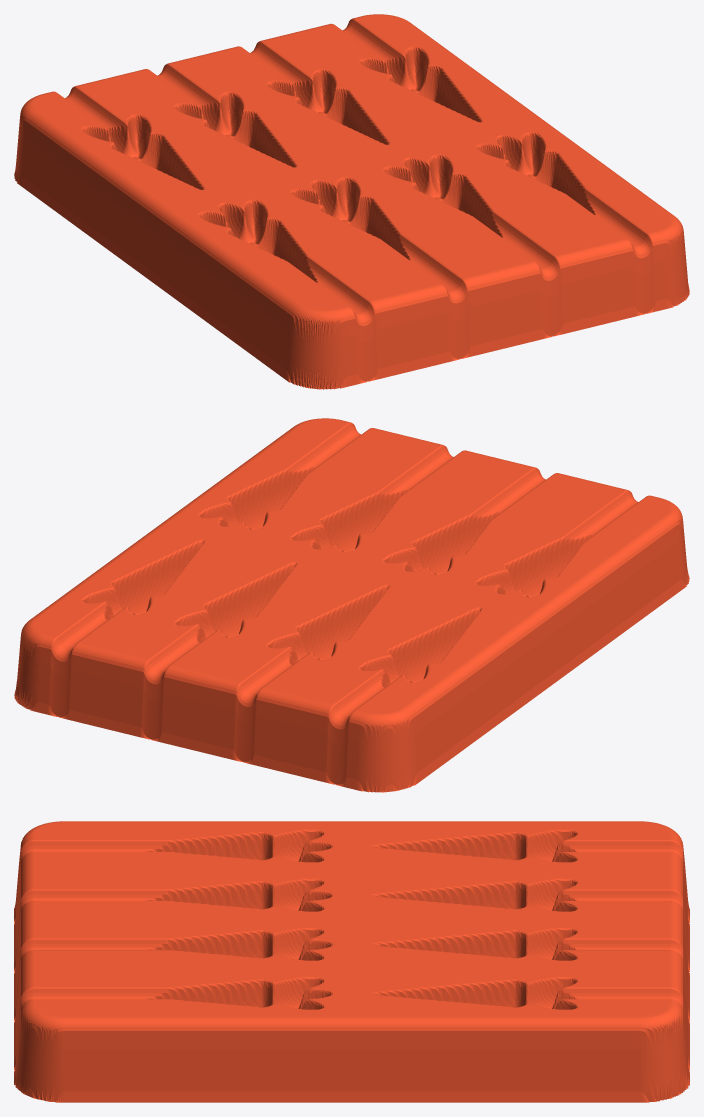
File: mold.glb
The picture shows the model from 3 angles, top to bottom: view 1: azimuth 30°, elevation 25°; view 2: azimuth 150°, elevation 25°; view 3: azimuth 270°, elevation 25°; orthographic projection. The views are drawn at different scales.
Visible parts, largest first — view 1: geometry_0; view 2: geometry_0; view 3: geometry_0.
Part boxes in pixels (x1=…): geometry_0: x1=14, y1=14, x2=689, y2=389; geometry_0: x1=14, y1=418, x2=689, y2=792; geometry_0: x1=14, y1=821, x2=689, y2=1102.
Size of the model in its own units: 0.0909 by 0.0155 by 0.1229.
